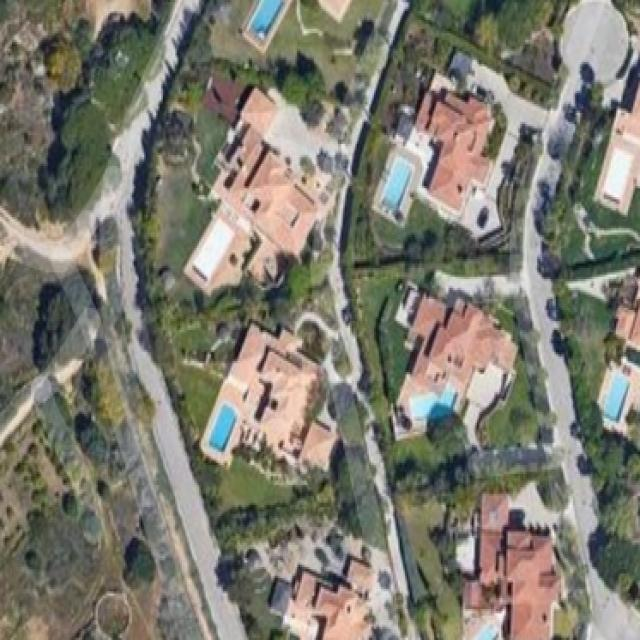swimming pool: (247, 0, 283, 38), (208, 401, 236, 449)
